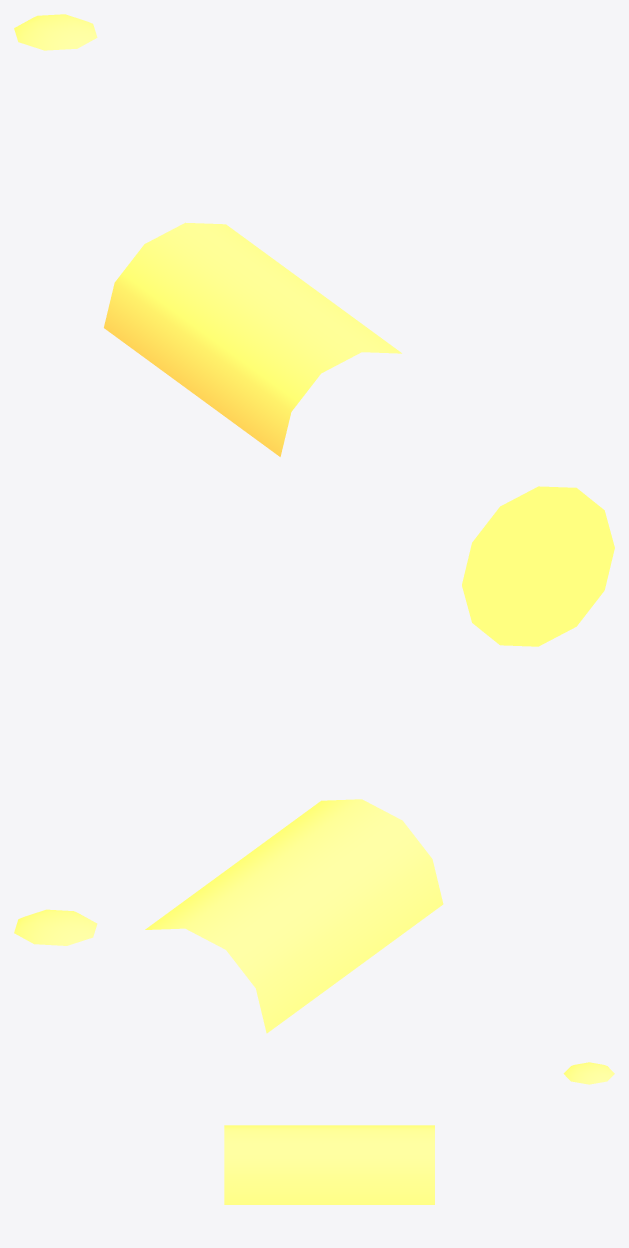
Rendered from portalGunOrangeGlow.glb.
3 views of the same model, one above another, from view 1: azimuth 30°, elevation 25°; view 2: azimuth 150°, elevation 25°; view 3: azimuth 270°, elevation 25° (orthographic). The views are drawn at different scales.
Visible parts, largest first — view 1: orangeGlow; view 2: orangeGlow; view 3: orangeGlow.
Part boxes in pixels (x1,y1,x2,y2): orangeGlow: (14,14,614,646); orangeGlow: (14,799,443,1033); orangeGlow: (224,1062,614,1204).
Bounding box in the file's own units: 0.1638 × 0.2578 × 0.8778.
